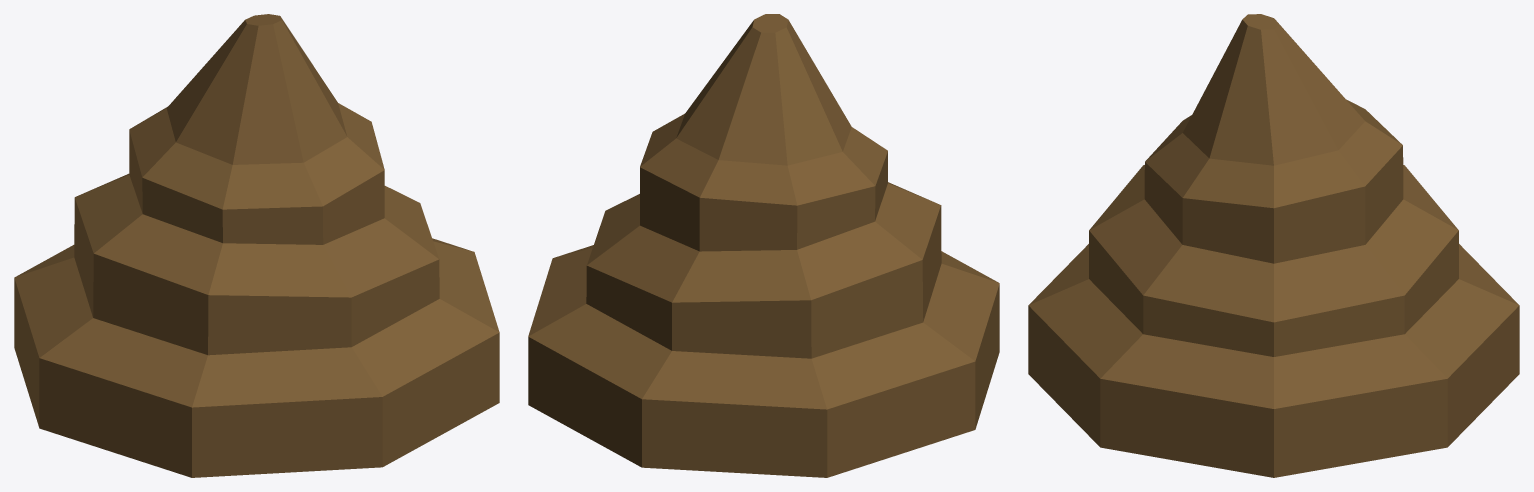
The model's file is caca.fbx.
3 renders of one model, left to right at view 1: azimuth 30°, elevation 25°; view 2: azimuth 150°, elevation 25°; view 3: azimuth 270°, elevation 25°, orthographic. The views are drawn at different scales.
Parts seen in each view (by area): view 1: Cylinder; view 2: Cylinder; view 3: Cylinder.
Boxes of the visible parts, box(x1,y1,x2,y2) form: Cylinder: box(14, 14, 499, 477); Cylinder: box(528, 14, 999, 477); Cylinder: box(1028, 14, 1519, 477).
Size of the model in its own units: 200 by 159 by 200.
